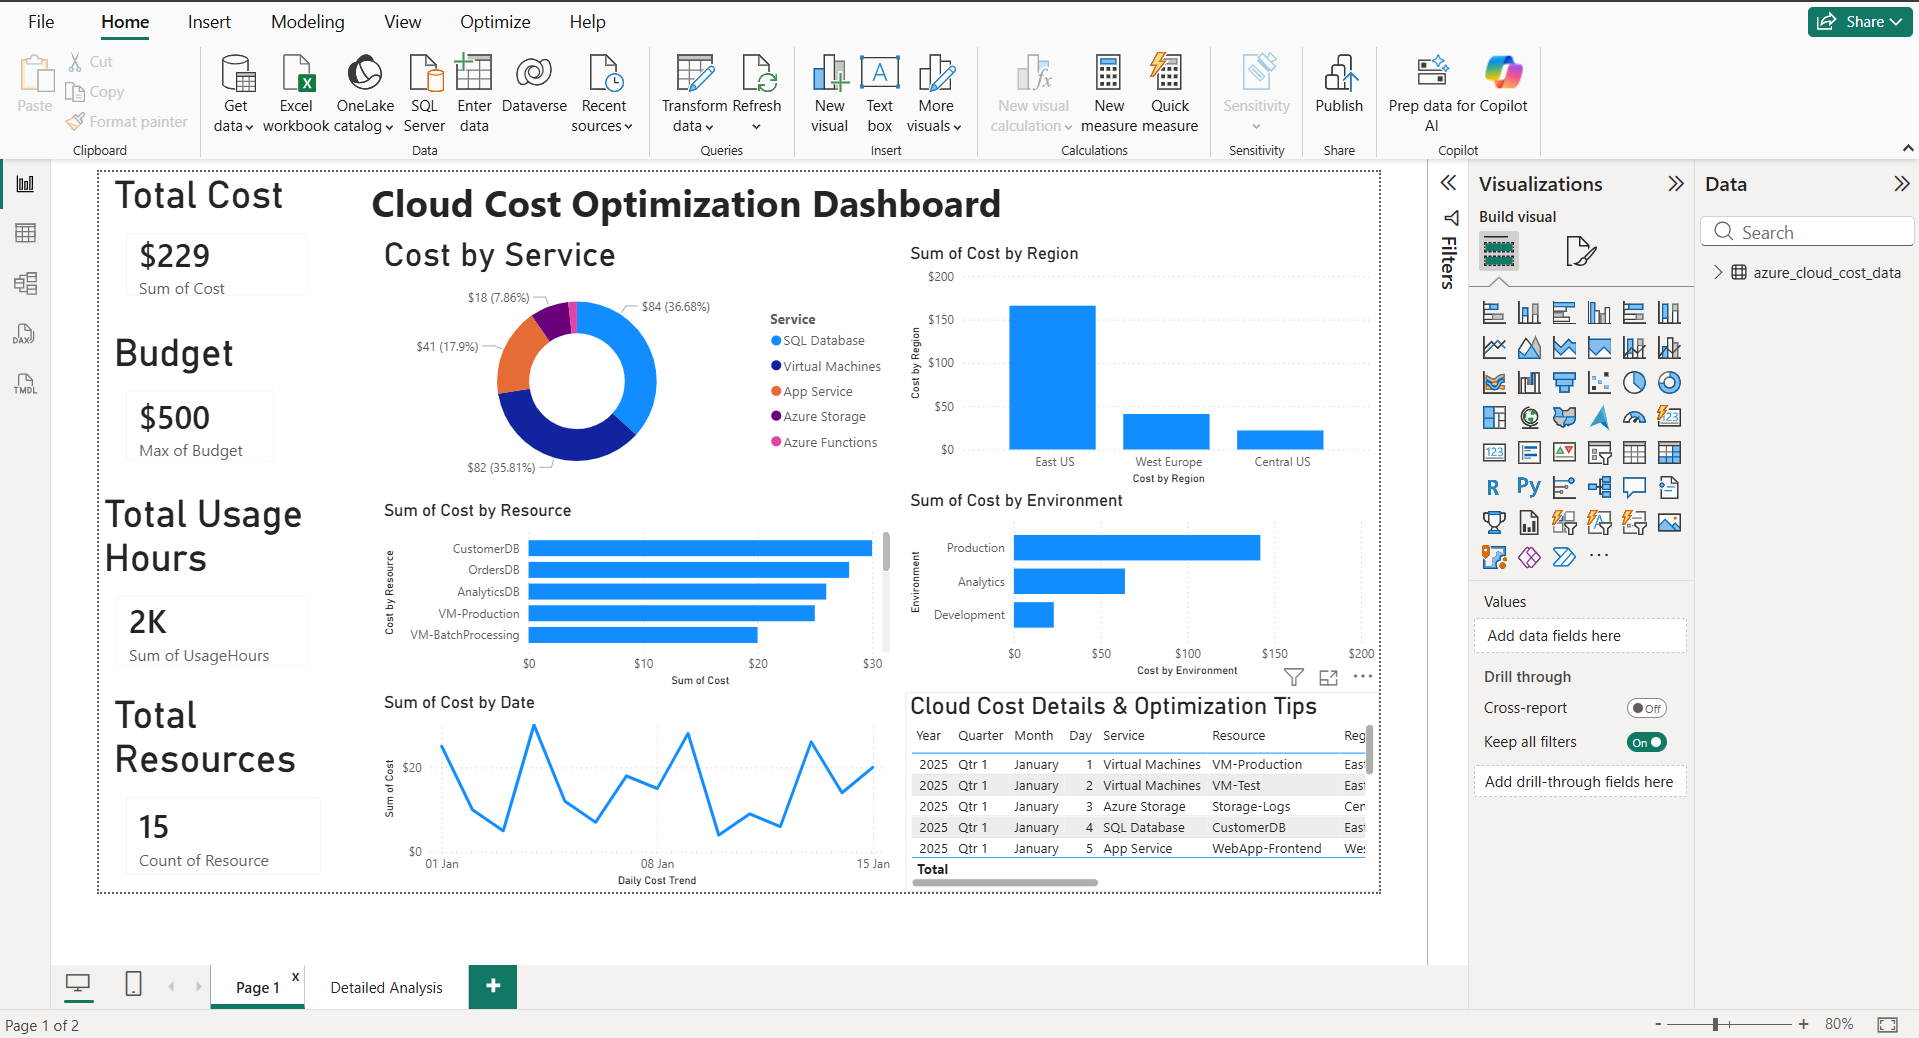

This screenshot's page, from the dashboard's own definition file:
{"tool":"powerbi","page":{"name":"Page 1","canvas":[1280,720],"ordinal":0},"visuals":[{"type":"cardVisual","title":"Total Cost","fields":{"Data":["Sum(azure_cloud_cost_data.Cost)"]},"box":[9.6,0,216.8,141.3],"z":0},{"type":"cardVisual","title":"Budget","fields":{"Data":["Max(azure_cloud_cost_data.Budget)"]},"box":[9.6,157.8,183.9,149.6],"z":1000},{"type":"cardVisual","title":"Total Usage Hours","fields":{"Data":["Sum(azure_cloud_cost_data.UsageHours)"]},"box":[0,318.4,226.4,192.1],"z":2000},{"type":"cardVisual","title":"Total Resources","fields":{"Data":["Count(azure_cloud_cost_data.Resource)"]},"box":[9.6,520.1,229.2,200.3],"z":3000},{"type":"donutChart","title":"Cost by Service","fields":{"Category":["azure_cloud_cost_data.Service"],"Y":["Sum(azure_cloud_cost_data.Cost)"]},"box":[280,62.5,516.2,256.2],"z":4000},{"type":"clusteredColumnChart","fields":{"Category":["azure_cloud_cost_data.Region"],"Y":["Sum(azure_cloud_cost_data.Cost)"]},"box":[806.2,71.2,473.8,246.2],"z":5000},{"type":"clusteredBarChart","fields":{"Category":["azure_cloud_cost_data.Resource"],"Y":["Sum(azure_cloud_cost_data.Cost)"]},"box":[280,327.5,516.2,192.5],"z":6000},{"type":"lineChart","fields":{"Category":["azure_cloud_cost_data.Date"],"Y":["Sum(azure_cloud_cost_data.Cost)"]},"box":[280,520,516,200],"z":7000},{"type":"clusteredBarChart","fields":{"Category":["azure_cloud_cost_data.Environment"],"Y":["Sum(azure_cloud_cost_data.Cost)"]},"box":[806,318,474,192],"z":8000},{"type":"tableEx","title":"Cloud Cost Details & Optimization Tips","fields":{"Values":["azure_cloud_cost_data.Date.Variation.Date Hierarchy.Year","azure_cloud_cost_data.Date.Variation.Date Hierarchy.Quarter","azure_cloud_cost_data.Date.Variation.Date Hierarchy.Month","azure_cloud_cost_data.Date.Variation.Date Hierarchy.Day","azure_cloud_cost_data.Service","azure_cloud_cost_data.Resource","azure_cloud_cost_data.Region","Sum(azure_cloud_cost_data.Cost)","Sum(azure_cloud_cost_data.Budget)","Sum(azure_cloud_cost_data.UsageHours)","azure_cloud_cost_data.Environment","azure_cloud_cost_data.OptimizationTip"]},"box":[806.2,520,473.8,200],"z":9000},{"type":"textbox","box":[267.5,0,701.2,62.5],"z":10000}]}

Visuals, with their boxes on the page's 1280x720 design canvas (x1, y1, x2, y2). These are canvas units, not pixel positions in the 1919x1038 screenshot, which may show the page scaled, cropped or inside an application window:
"Total Cost" cardVisual: (10,0,226,141)
"Budget" cardVisual: (10,158,194,307)
"Total Usage Hours" cardVisual: (0,318,226,510)
"Total Resources" cardVisual: (10,520,239,720)
"Cost by Service" donutChart: (280,62,796,319)
clusteredColumnChart - azure_cloud_cost_data.Region x Sum(azure_cloud_cost_data.Cost): (806,71,1280,317)
clusteredBarChart - azure_cloud_cost_data.Resource x Sum(azure_cloud_cost_data.Cost): (280,328,796,520)
lineChart - azure_cloud_cost_data.Date x Sum(azure_cloud_cost_data.Cost): (280,520,796,720)
clusteredBarChart - azure_cloud_cost_data.Environment x Sum(azure_cloud_cost_data.Cost): (806,318,1280,510)
"Cloud Cost Details & Optimization Tips" tableEx: (806,520,1280,720)
textbox: (268,0,969,62)
